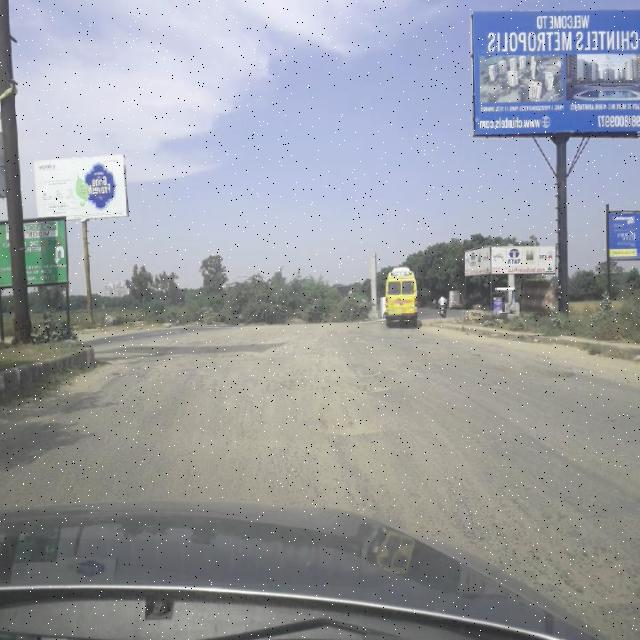D20: (74, 350, 386, 503)
D40: (490, 489, 633, 618), (315, 414, 413, 451), (345, 363, 404, 398)
